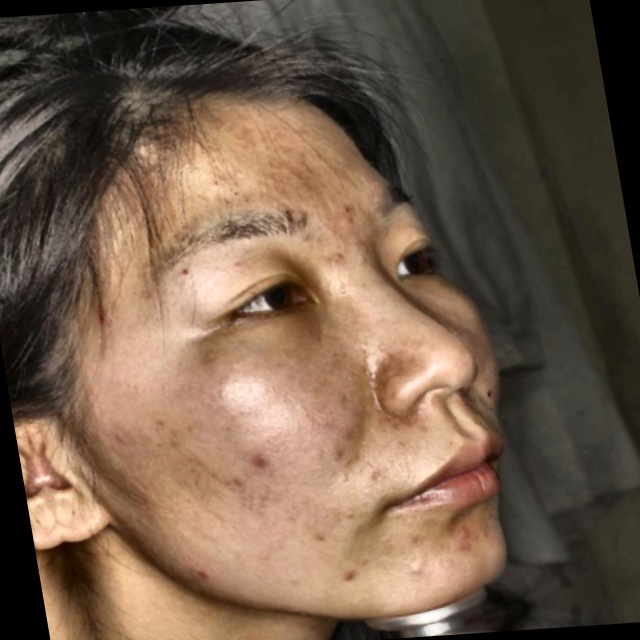comedone: (443, 515, 481, 559), (183, 558, 220, 594), (85, 300, 115, 331), (334, 568, 368, 594), (325, 247, 346, 266)
